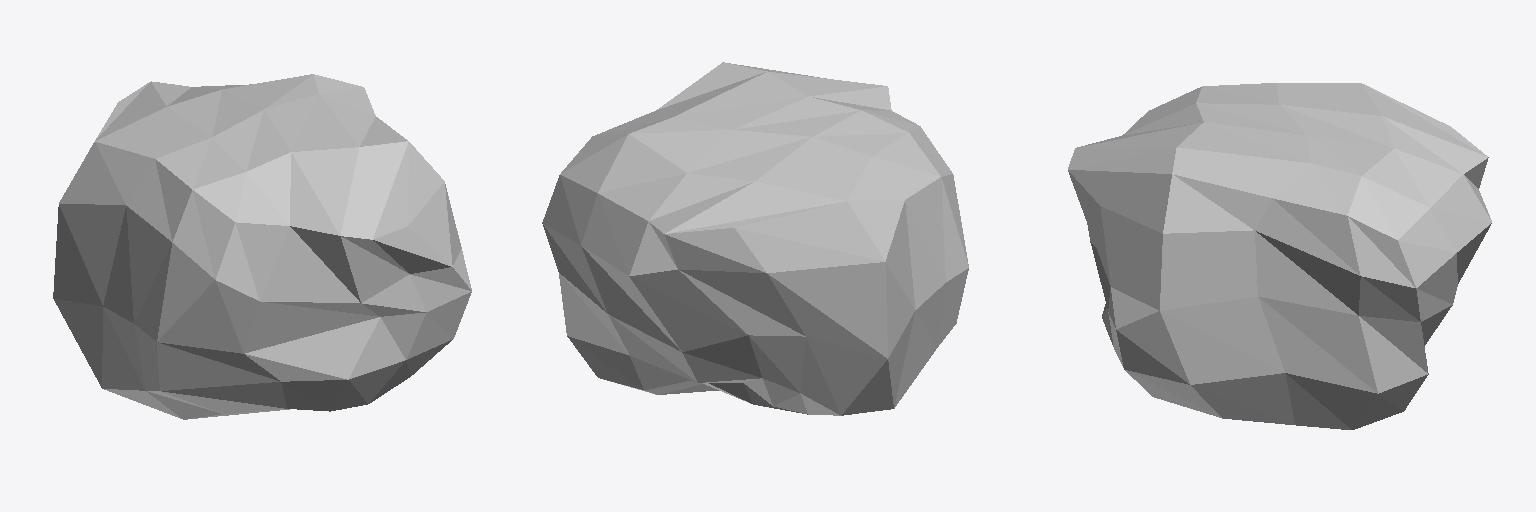
File: rock1.obj
The picture shows the model from 3 angles: view 1: azimuth 30°, elevation 25°; view 2: azimuth 150°, elevation 25°; view 3: azimuth 270°, elevation 25°; orthographic projection.
Visible parts, largest first — view 1: Cube; view 2: Cube; view 3: Cube.
Part boxes in pixels (x1,y1,x2,y2): Cube: (53, 74, 471, 419); Cube: (542, 62, 968, 415); Cube: (1068, 83, 1491, 429).
Bounding box in the file's own units: 0.6367 × 0.5051 × 0.7257.